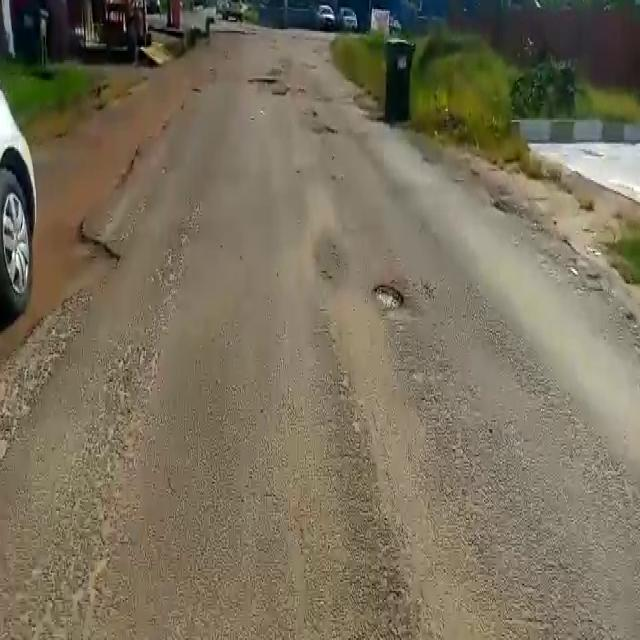Pothole: (370, 279, 407, 312), (315, 122, 342, 136)
